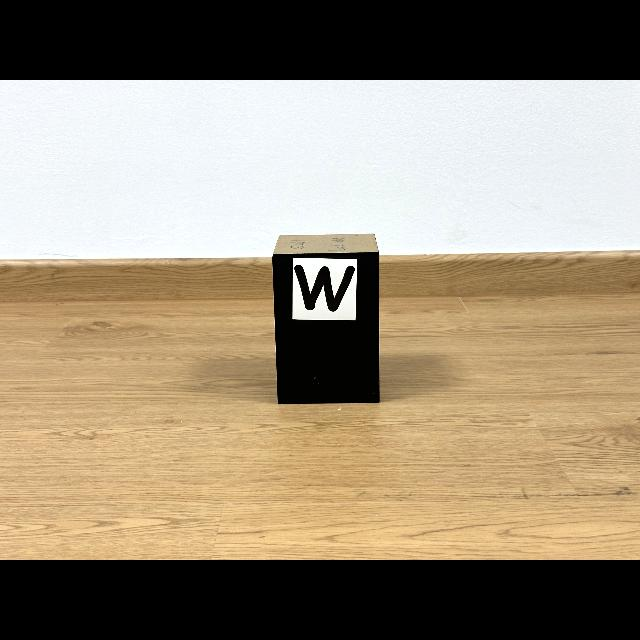W: (295, 265, 355, 311)
